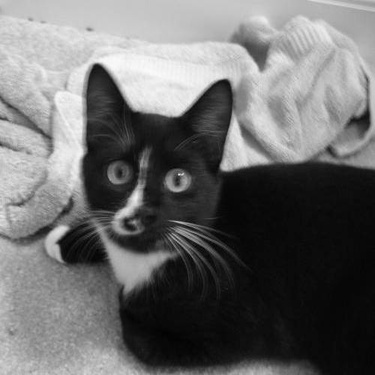cat: (43, 59, 370, 372)
